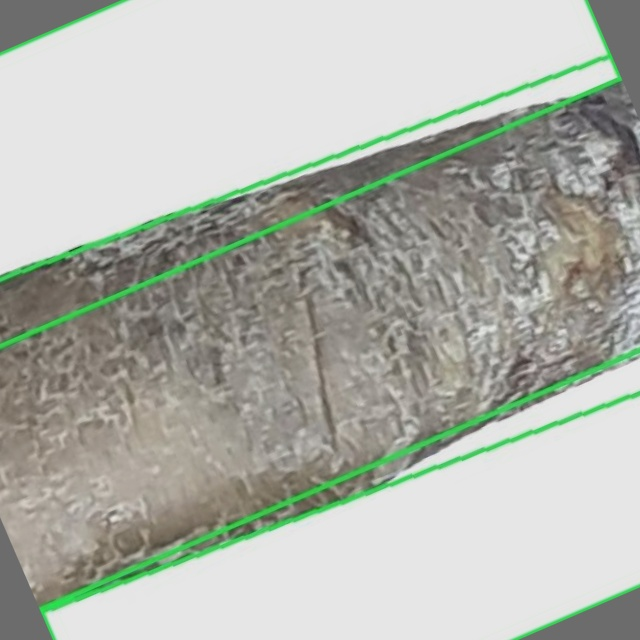Eczema: (0, 54, 639, 612), (0, 0, 620, 346)
